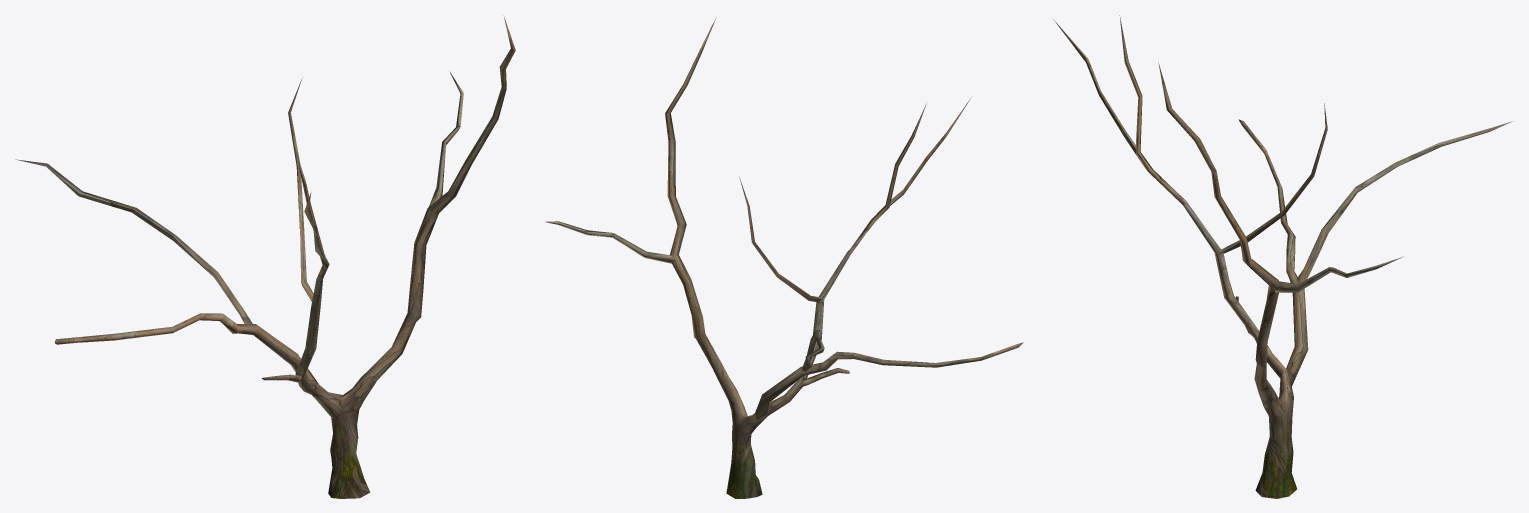
File: Yland1_sg_14 Yland1.FBX
The picture shows the model from 3 angles, left to right: view 1: azimuth 30°, elevation 25°; view 2: azimuth 150°, elevation 25°; view 3: azimuth 270°, elevation 25°; orthographic projection. The views are drawn at different scales.
Visible parts, largest first — view 1: Yland1_sg_14 Yland1; view 2: Yland1_sg_14 Yland1; view 3: Yland1_sg_14 Yland1.
Part boxes in pixels (x1,y1,x2,y2): Yland1_sg_14 Yland1: (15,15,515,498); Yland1_sg_14 Yland1: (545,17,1023,498); Yland1_sg_14 Yland1: (1053,15,1513,498).
Size of the model in its own units: 7.86 by 7.8 by 6.92.
